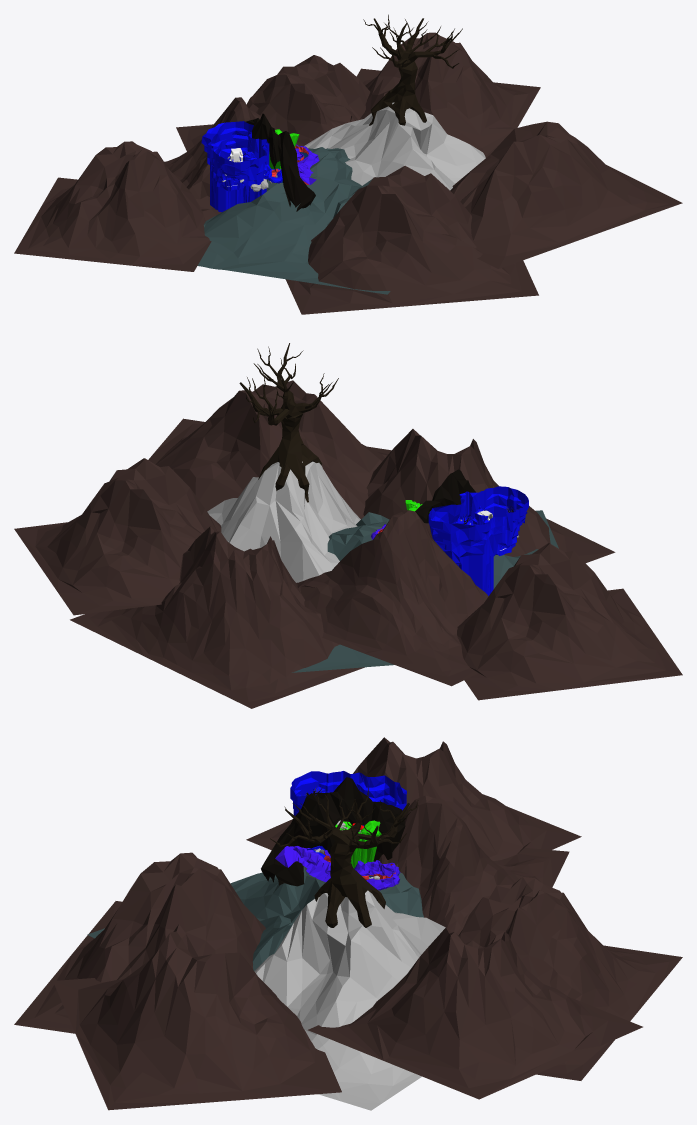
Rendered from Integrate.FBX.
3 views of the same model, one above another, from view 1: azimuth 30°, elevation 25°; view 2: azimuth 150°, elevation 25°; view 3: azimuth 270°, elevation 25° (orthographic). The views are drawn at different scales.
Visible parts, largest first — view 1: Mountain, WorldTreeMountain, Stage2, WorldTree, Stage2-3, Stage1; view 2: Mountain, WorldTreeMountain, Stage2, WorldTree, Stage2-3; view 3: Mountain, WorldTreeMountain, Stage2-3, WorldTree, Stage2, Stage1, Stage3.
Boxes of the visible parts, bbox=[...] form: Mountain: bbox=[14, 32, 682, 314]; WorldTreeMountain: bbox=[304, 102, 485, 190]; Stage2: bbox=[201, 121, 282, 212]; WorldTree: bbox=[363, 14, 462, 125]; Stage2-3: bbox=[245, 113, 315, 211]; Stage1: bbox=[271, 144, 319, 184]; Mountain: bbox=[14, 380, 682, 708]; WorldTreeMountain: bbox=[207, 461, 360, 582]; Stage2: bbox=[428, 486, 528, 595]; WorldTree: bbox=[239, 343, 338, 502]; Stage2-3: bbox=[415, 469, 475, 523]; Mountain: bbox=[14, 737, 682, 1110]; WorldTreeMountain: bbox=[254, 890, 445, 1110]; Stage2-3: bbox=[261, 777, 405, 886]; WorldTree: bbox=[270, 787, 418, 927]; Stage2: bbox=[290, 771, 406, 858]; Stage1: bbox=[275, 846, 400, 890]; Stage3: bbox=[335, 820, 381, 868].
Bounding box in the file's own units: 1492 × 465 × 1216.
